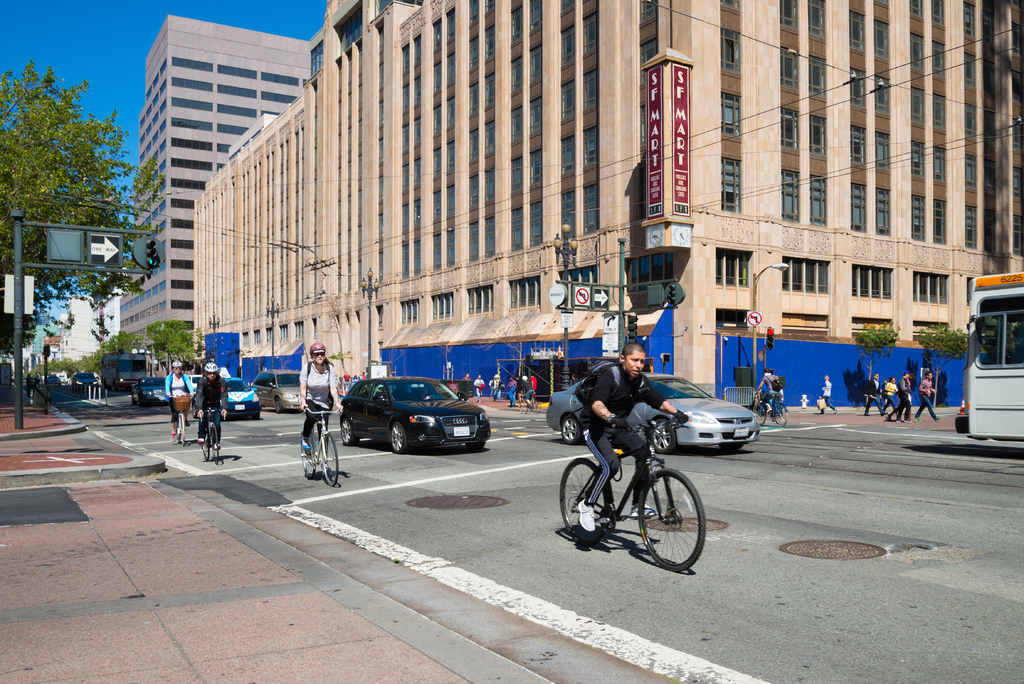Bike_toward: (558, 417, 708, 570), (295, 398, 348, 488), (194, 405, 229, 466), (160, 389, 194, 448)
